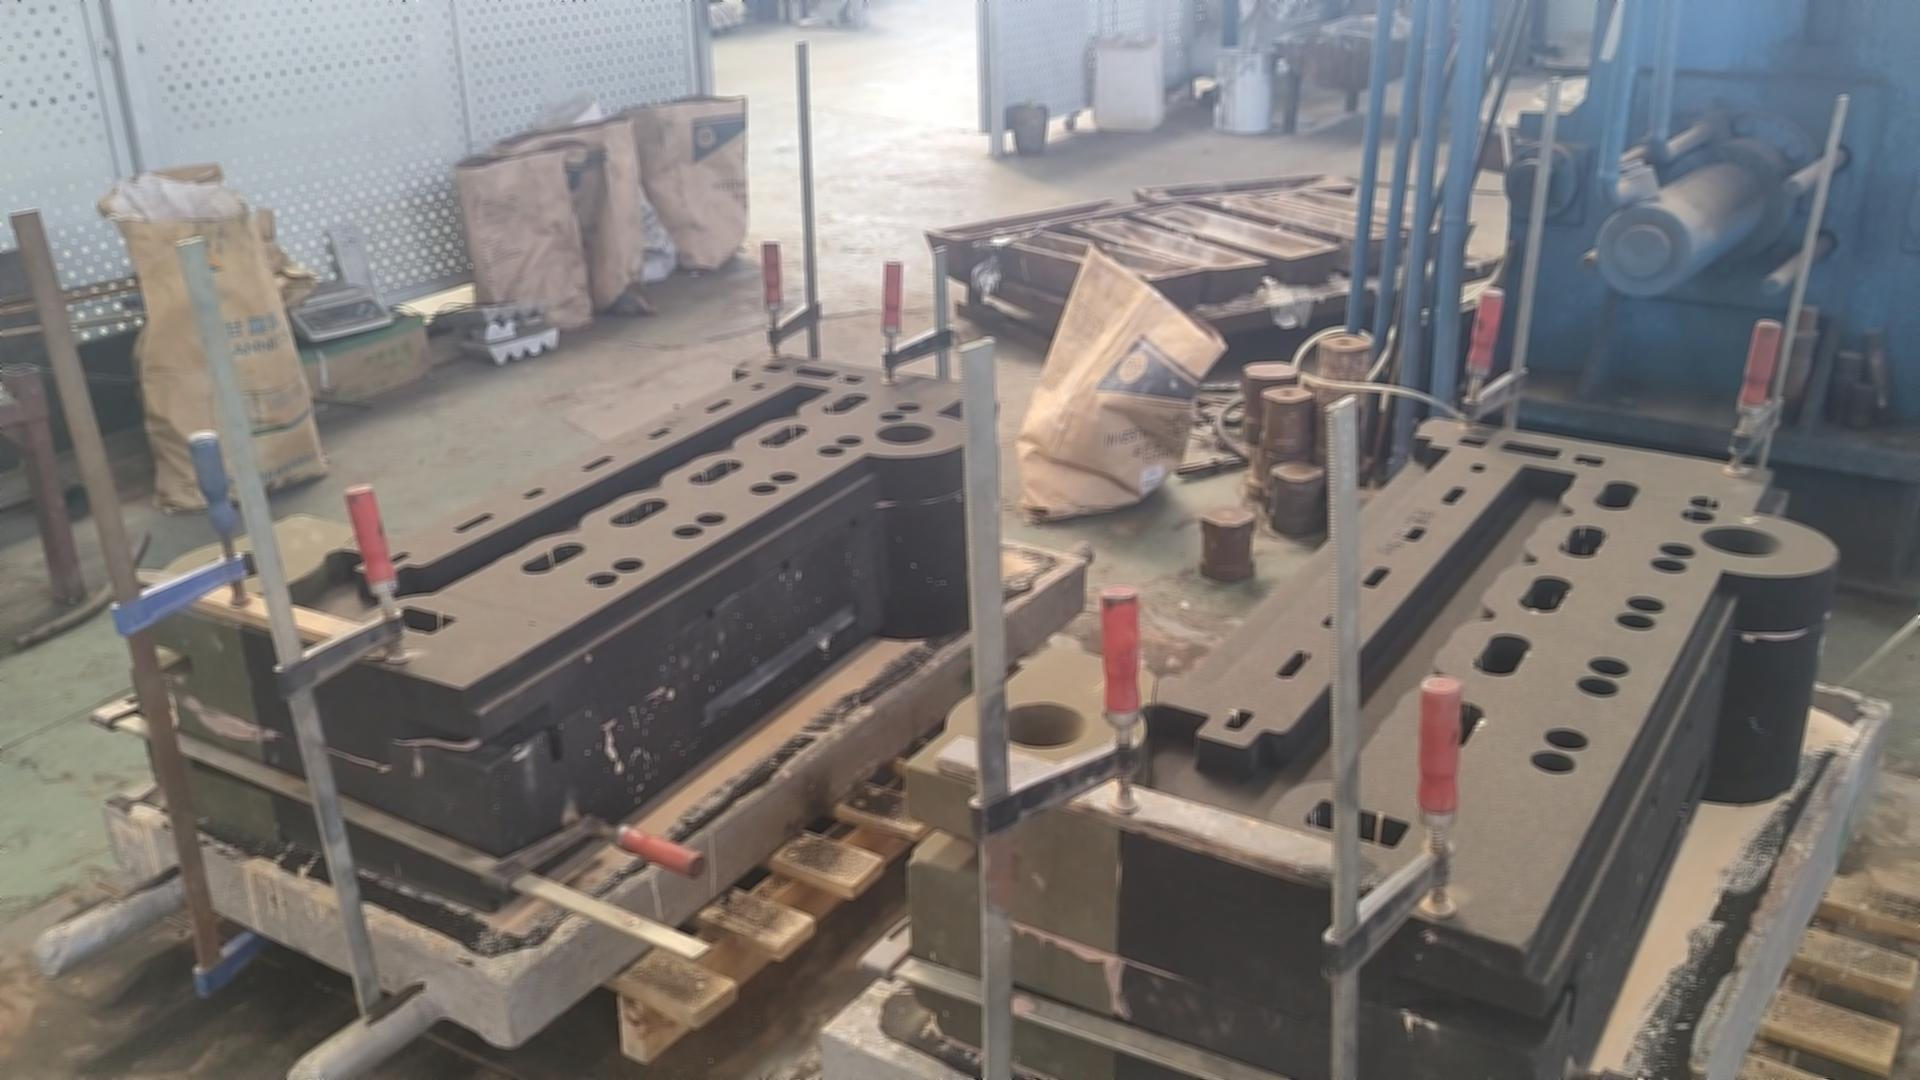pouring hole: (1000, 702, 1087, 748), (1700, 526, 1783, 556), (196, 550, 266, 582), (876, 423, 934, 444)
